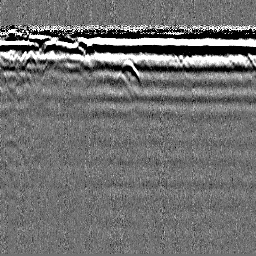cavity: (115, 58, 141, 82)
